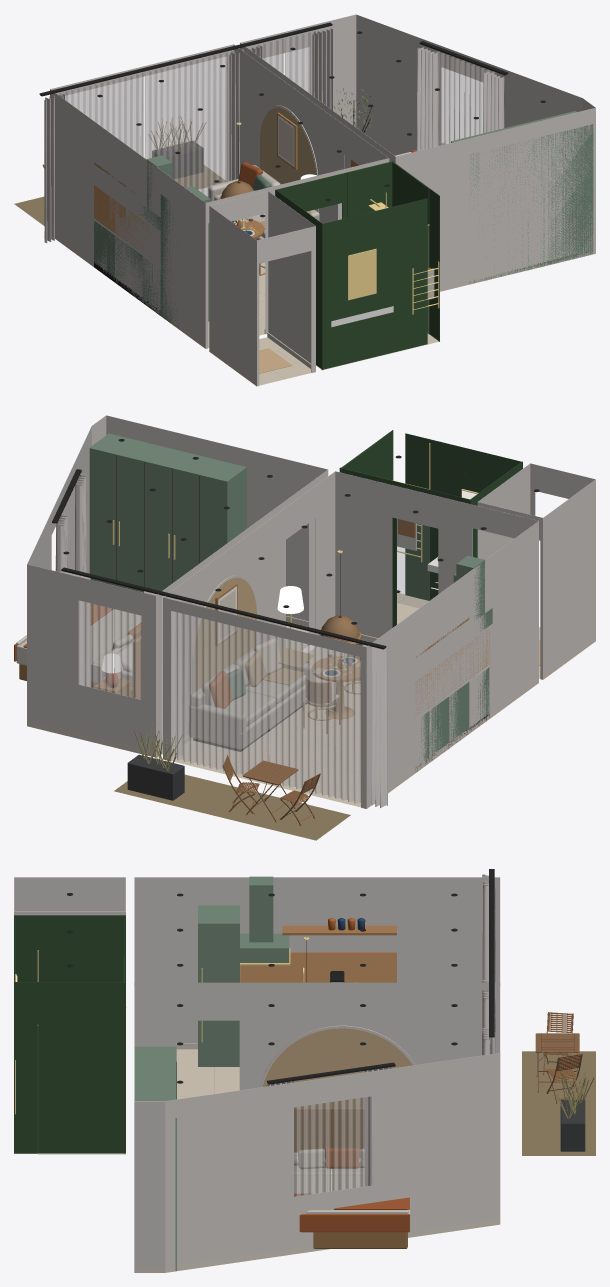
File: unit-1.B-riviera.glb
The picture shows the model from 3 angles, top to bottom: view 1: azimuth 30°, elevation 25°; view 2: azimuth 150°, elevation 25°; view 3: azimuth 270°, elevation 25°; orthographic projection. The views are drawn at different scales.
Parts seen in each view (by area): view 1: int-wall, int-sheer, int-bathWall, int-curtain, int-joineryTall, int-showerWall, int-joinery, int-feature, int-matteBlack, int-skirting, int-metal, int-splash (+10 smaller); view 2: int-wall, int-sheer, int-joineryTall, int-floor, int-bathWall, int-curtain, int-sofa, int-deck, int-joinery, int-feature, int-glass, int-skirting (+18 smaller); view 3: int-wall, int-bathWall, int-joineryTall, int-sheer, int-deck, int-feature, int-headboard, int-splash, int-joinery, int-bedThrow, int-floor, int-curtain (+11 smaller).
Boxes of the visible parts, left/top/right/bottom form: int-wall: left=50, top=14, right=595, bottom=381; int-sheer: left=58, top=30, right=494, bottom=196; int-bathWall: left=275, top=161, right=439, bottom=369; int-curtain: left=44, top=28, right=504, bottom=243; int-joineryTall: left=160, top=111, right=593, bottom=328; int-showerWall: left=347, top=161, right=429, bottom=333; int-joinery: left=94, top=155, right=172, bottom=308; int-feature: left=260, top=107, right=316, bottom=210; int-matteBlack: left=39, top=22, right=508, bottom=315; int-skirting: left=55, top=234, right=595, bottom=386; int-metal: left=139, top=122, right=439, bottom=314; int-splash: left=94, top=185, right=160, bottom=256; int-wall: left=27, top=415, right=595, bottom=803; int-sheer: left=55, top=486, right=360, bottom=803; int-joineryTall: left=89, top=433, right=456, bottom=592; int-floor: left=171, top=621, right=370, bottom=807; int-bathWall: left=339, top=430, right=522, bottom=627; int-curtain: left=55, top=474, right=387, bottom=807; int-sofa: left=189, top=641, right=313, bottom=749; int-deck: left=114, top=774, right=350, bottom=840; int-joinery: left=421, top=555, right=492, bottom=762; int-feature: left=194, top=577, right=256, bottom=691; int-glass: left=397, top=519, right=429, bottom=607; int-skirting: left=27, top=616, right=595, bottom=808; int-wall: left=14, top=877, right=500, bottom=1266; int-bathWall: left=14, top=915, right=125, bottom=1153; int-joineryTall: left=134, top=905, right=239, bottom=1271; int-sheer: left=294, top=885, right=495, bottom=1196; int-deck: left=522, top=1051, right=595, bottom=1155; int-feature: left=263, top=1028, right=412, bottom=1107; int-headboard: left=294, top=1107, right=407, bottom=1248; int-splash: left=240, top=952, right=396, bottom=982; int-joinery: left=240, top=876, right=289, bottom=962; int-bedThrow: left=294, top=1194, right=409, bottom=1232; int-floor: left=176, top=1049, right=239, bottom=1099; int-curtain: left=267, top=874, right=491, bottom=1186.
Size of the model in its own units: 7.77 by 2.8 by 8.26.
